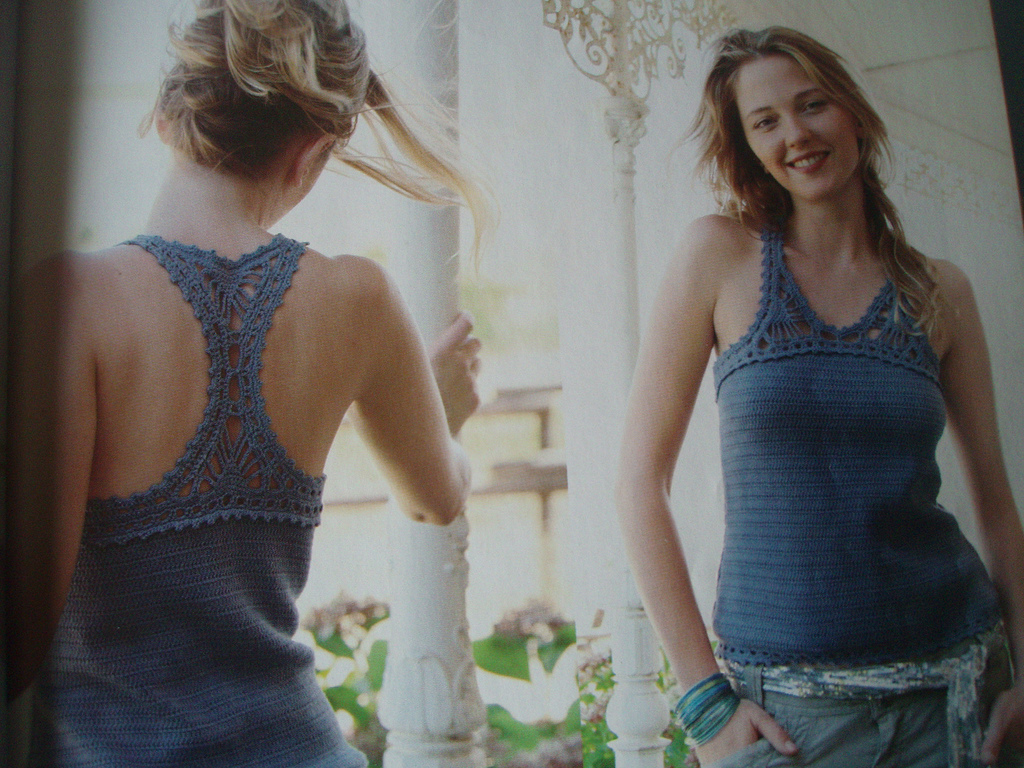Human_hand: (694, 696, 799, 766), (414, 306, 488, 405), (981, 683, 1023, 767)
